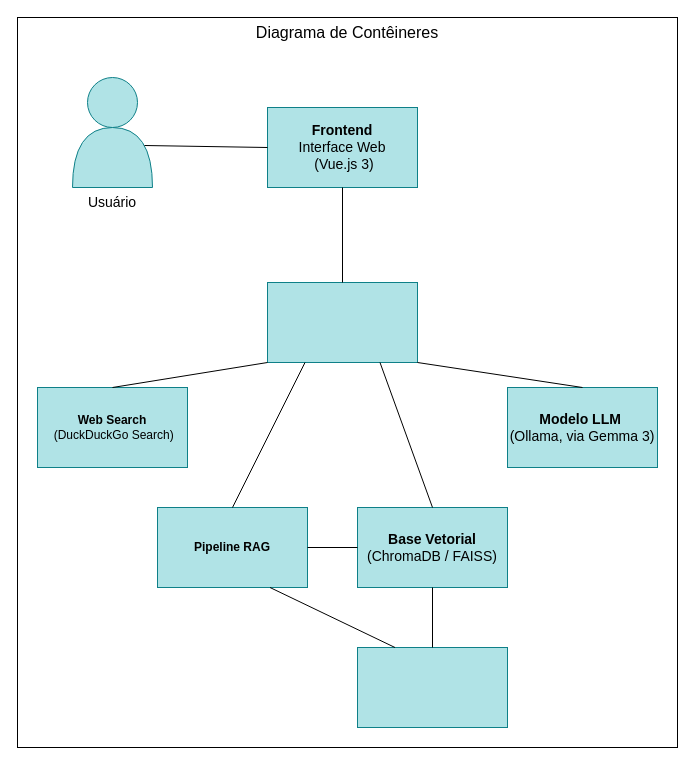
The diagram is 695 pixels wide and 765 high, and some of its shapes have lost their labels. The shapes that lost their labels are listed below. From the top down, each one's centre as x and y in pixels, then its label:
At (342,322): "Backend API de Orquestração (Python + FastAPI)".
At (432,687): "Base de Conhecimento de Fontes Confiáveis".
